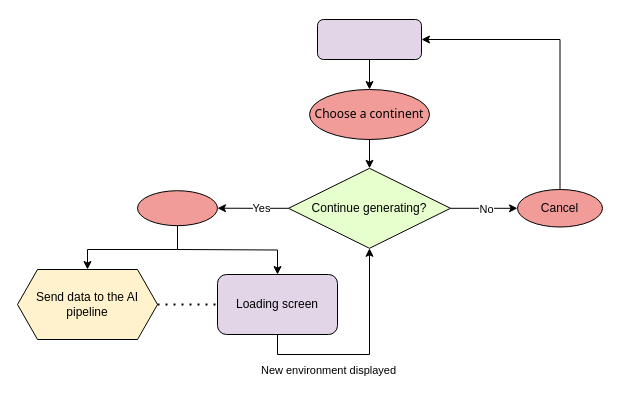
Some shapes in this 620 by 394 pixel diagram are drawn without their labels. The centre of each missing label's shape, as x and y in pixels:
"Start" belongs at (369,39).
"Voice input" belongs at (177,208).
